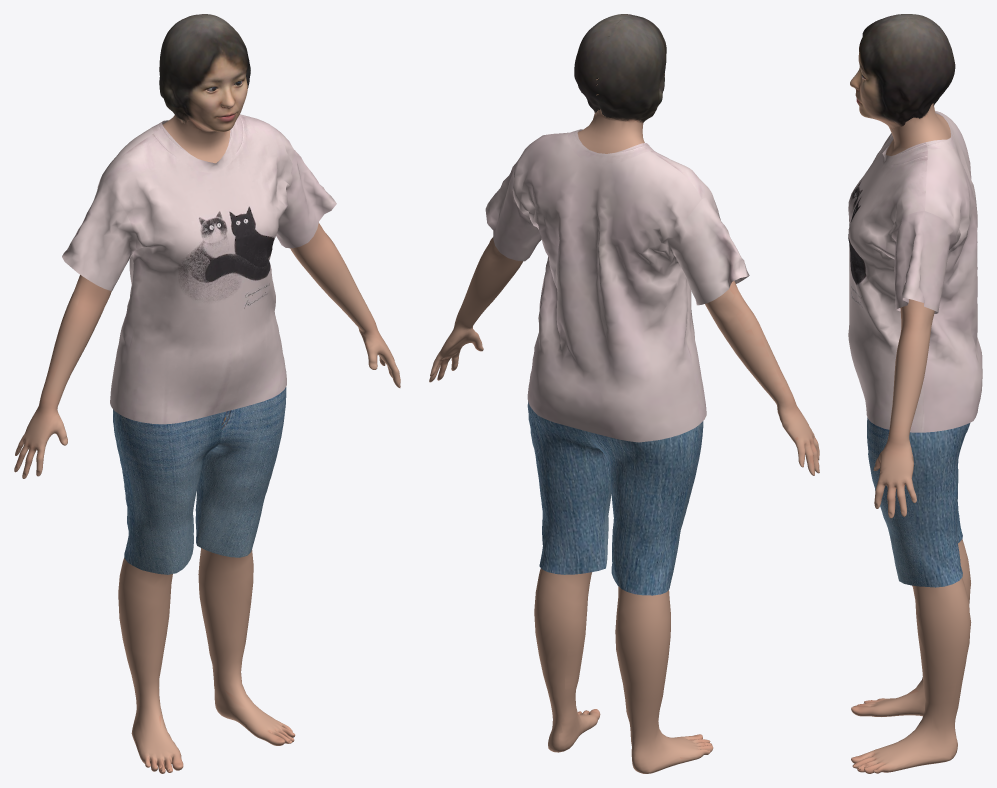
Rendered from XU_Fitted_S.fbx.
3 renders of one model, left to right at view 1: azimuth 30°, elevation 25°; view 2: azimuth 150°, elevation 25°; view 3: azimuth 270°, elevation 25°, orthographic.
Visible parts, largest first — view 1: S, model.001, XU_Pants.001; view 2: S, model.001, XU_Pants.001; view 3: S, model.001, XU_Pants.001.
Boxes of the visible parts, x1,y1,x2,y2 form: S: (62, 114, 336, 424); model.001: (14, 14, 400, 773); XU_Pants.001: (113, 387, 286, 574); S: (485, 129, 749, 442); model.001: (429, 14, 819, 773); XU_Pants.001: (527, 401, 703, 595); S: (848, 111, 982, 432); model.001: (850, 14, 971, 773); XU_Pants.001: (867, 417, 970, 587).
Bounding box in the file's own units: 9182 × 16642 × 2802.
3 materials, 3 textured.
